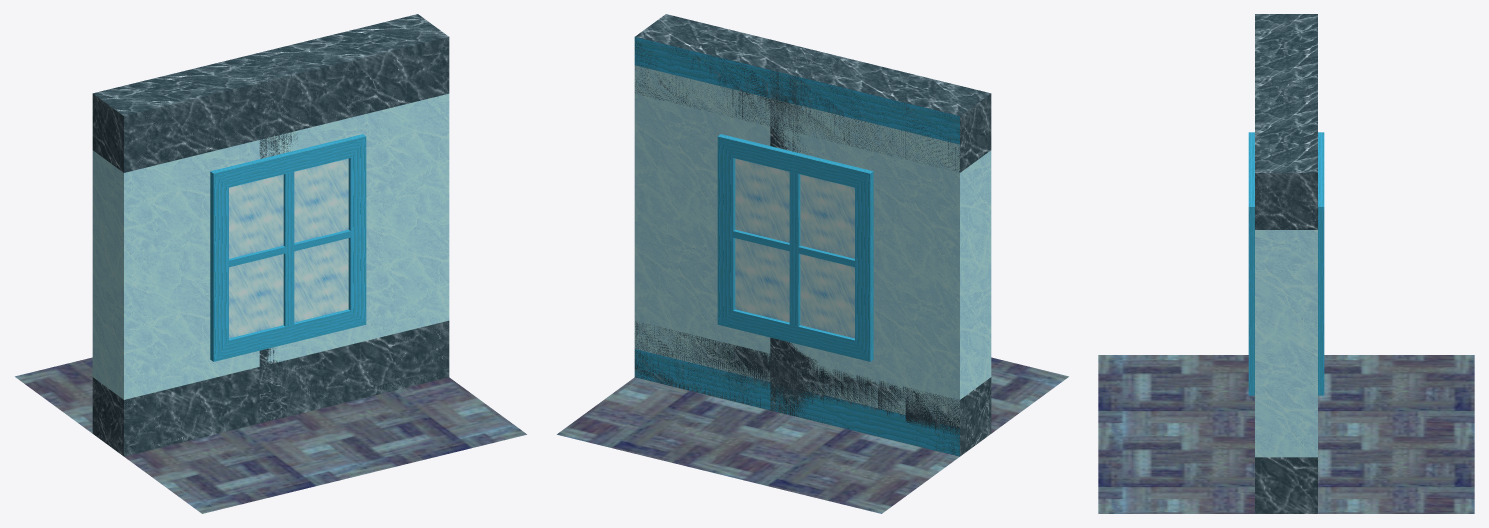
File: Building Pieces v2.fbx
3 renders of one model, left to right at view 1: azimuth 30°, elevation 25°; view 2: azimuth 150°, elevation 25°; view 3: azimuth 270°, elevation 25°, orthographic.
Parts seen in each view (by area): view 1: Wall 1, Window, Floor, Door Frame, Ledge 1, Corner 1; view 2: Wall 1, Window, Floor, Door Frame, Ledge 1, Corner 1; view 3: Floor, Wall 1, Window, Door Frame, Corner 1.
Boxes of the visible parts, x1=… form: Wall 1: x1=92, y1=14, x2=449, y2=456; Window: x1=210, y1=134, x2=366, y2=361; Floor: x1=15, y1=357, x2=526, y2=513; Door Frame: x1=92, y1=37, x2=449, y2=455; Ledge 1: x1=124, y1=321, x2=449, y2=455; Corner 1: x1=239, y1=50, x2=310, y2=422; Wall 1: x1=634, y1=14, x2=991, y2=456; Window: x1=717, y1=134, x2=873, y2=361; Floor: x1=557, y1=357, x2=1068, y2=513; Door Frame: x1=634, y1=38, x2=991, y2=455; Ledge 1: x1=634, y1=321, x2=959, y2=455; Corner 1: x1=770, y1=47, x2=854, y2=416; Floor: x1=1098, y1=355, x2=1474, y2=513; Wall 1: x1=1255, y1=14, x2=1317, y2=513; Window: x1=1248, y1=132, x2=1324, y2=395; Door Frame: x1=1255, y1=173, x2=1317, y2=513; Corner 1: x1=1255, y1=80, x2=1317, y2=106.
Bounding box in the file's own units: 6 × 6 × 6.
